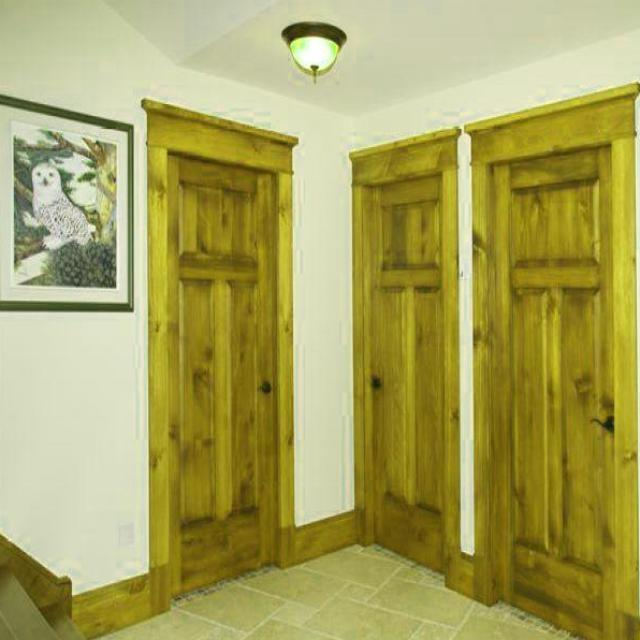door: (469, 73, 640, 632), (133, 84, 300, 609), (348, 100, 467, 586)
